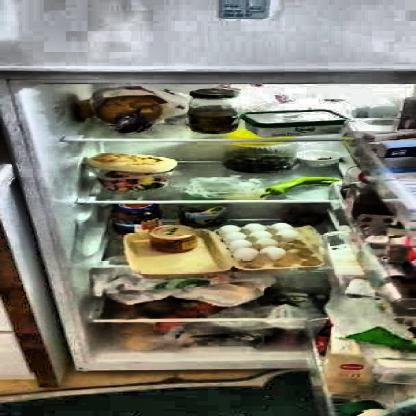cream_cheese: (242, 111, 343, 135)
eggs: (219, 224, 299, 260)
green_chillies: (263, 177, 337, 195)
milk: (328, 340, 368, 396)
red_onion: (116, 114, 150, 133)
